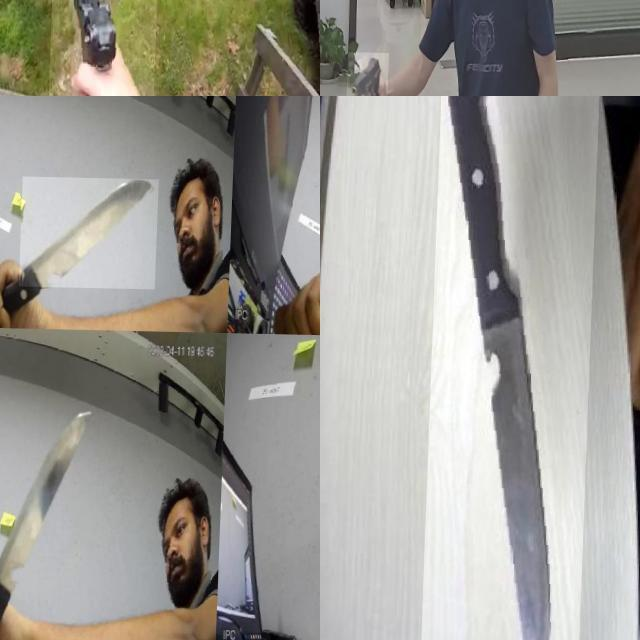-: (425, 96, 601, 640), (0, 400, 92, 611), (21, 176, 160, 288)
gun-knife-thesis - v11 Yolov5 augmented: (47, 0, 162, 96), (347, 51, 390, 96)
